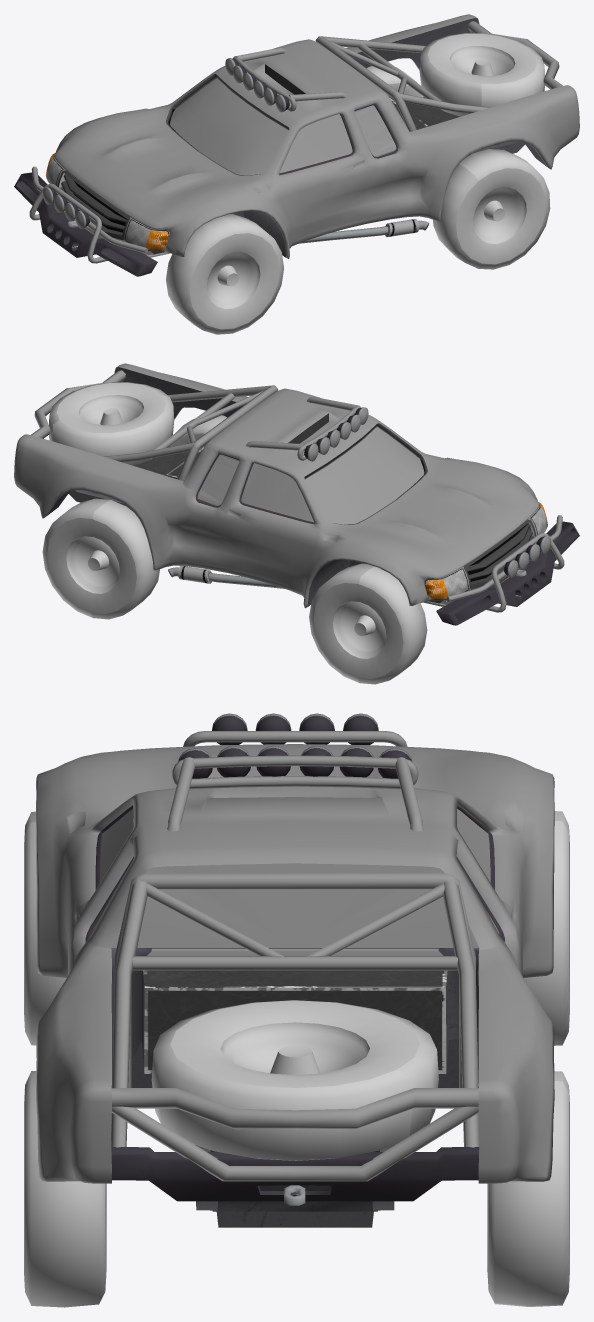
The model's file is TrophyTruck.FBX.
3 renders of one model, top to bottom at view 1: azimuth 30°, elevation 25°; view 2: azimuth 150°, elevation 25°; view 3: azimuth 270°, elevation 25°, orthographic. The views are drawn at different scales.
Visible parts, largest first — view 1: body, chassis, wheel_left_front, wheel_left_rear, glass, part_wheel, lights_glass, wheel_right_rear; view 2: body, chassis, wheel_right_front, wheel_right_rear, glass, part_wheel, lights_glass, wheel_left_rear; view 3: body, chassis, part_wheel, glass, wheel_right_rear, wheel_left_rear, wheel_right_front, wheel_left_front.
Part boxes in pixels (left/top/right/bottom): body: left=29, top=14, right=579, bottom=263; chassis: left=14, top=18, right=546, bottom=276; wheel_left_front: left=166, top=214, right=283, bottom=334; wheel_left_rear: left=433, top=149, right=550, bottom=269; glass: left=170, top=78, right=396, bottom=174; part_wheel: left=419, top=33, right=545, bottom=116; lights_glass: left=42, top=58, right=283, bottom=228; wheel_right_rear: left=367, top=66, right=423, bottom=101; body: left=14, top=363, right=564, bottom=612; chassis: left=47, top=367, right=579, bottom=625; wheel_right_front: left=309, top=563, right=427, bottom=684; wheel_right_rear: left=42, top=498, right=159, bottom=619; glass: left=197, top=427, right=424, bottom=524; part_wheel: left=49, top=382, right=174, bottom=465; lights_glass: left=309, top=407, right=550, bottom=577; wheel_left_rear: left=170, top=415, right=226, bottom=450; body: left=36, top=731, right=554, bottom=1183; chassis: left=85, top=713, right=504, bottom=1227; part_wheel: left=151, top=1000, right=438, bottom=1160; glass: left=91, top=809, right=499, bottom=947; wheel_right_rear: left=487, top=1071, right=569, bottom=1306; wheel_left_rear: left=24, top=1071, right=106, bottom=1307; wheel_right_front: left=524, top=811, right=569, bottom=1045; wheel_left_front: left=24, top=811, right=66, bottom=1045.
Size of the model in its own units: 5.81 by 2.14 by 2.84.
